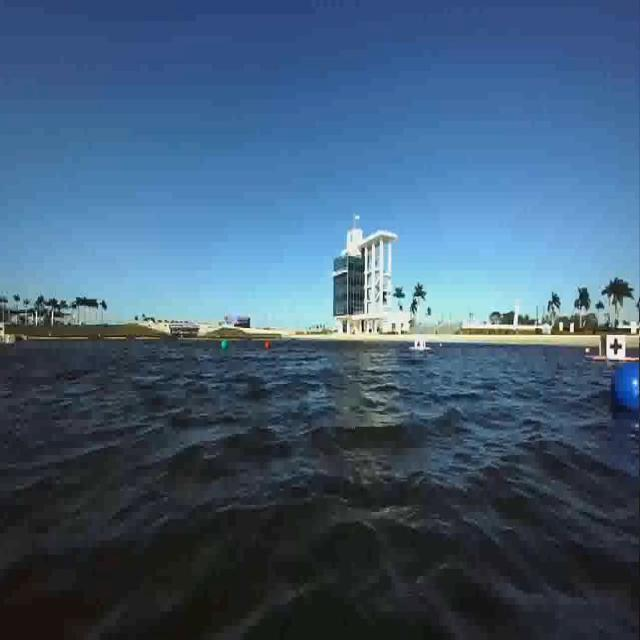blue-buoy: (610, 361, 640, 416)
green-buoy: (220, 336, 228, 353)
